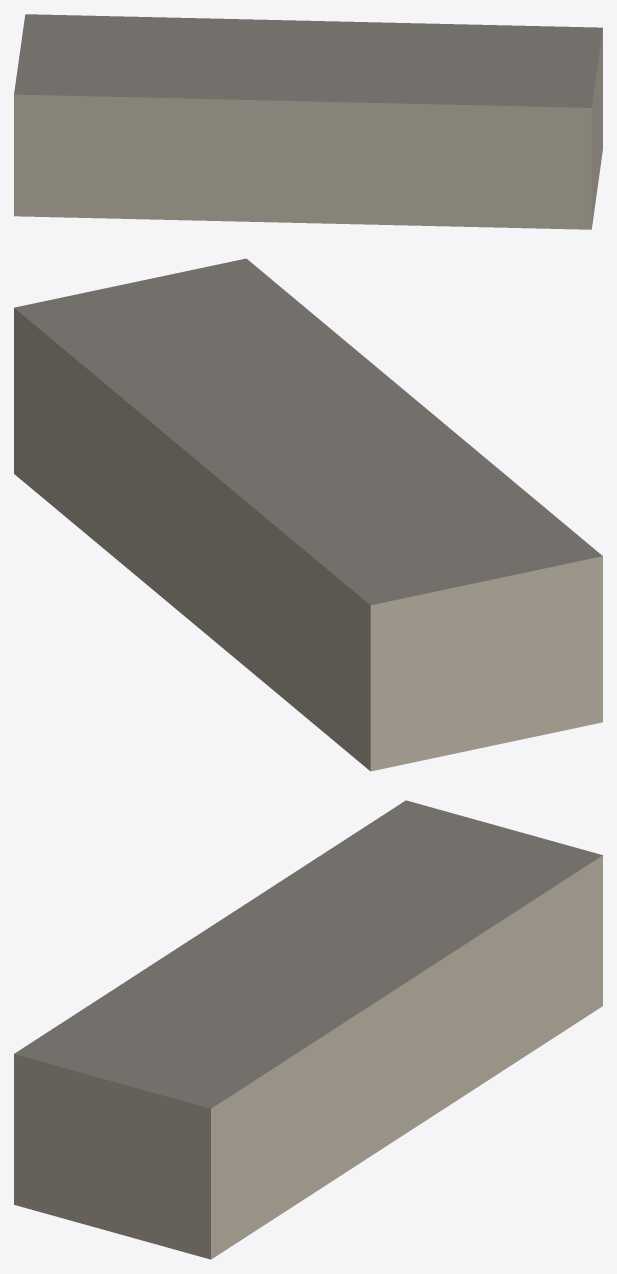
The picture shows the model from 3 angles, top to bottom: view 1: azimuth 30°, elevation 25°; view 2: azimuth 150°, elevation 25°; view 3: azimuth 270°, elevation 25°; orthographic projection. The views are drawn at different scales.
Visible parts, largest first — view 1: HP-w1287055056; view 2: HP-w1287055056; view 3: HP-w1287055056.
Part boxes in pixels (<box>): HP-w1287055056: <box>14,14,602,229</box>; HP-w1287055056: <box>14,258,602,771</box>; HP-w1287055056: <box>14,800,602,1259</box>.
Bounding box in the file's own units: 78.93 × 18 × 63.69.
